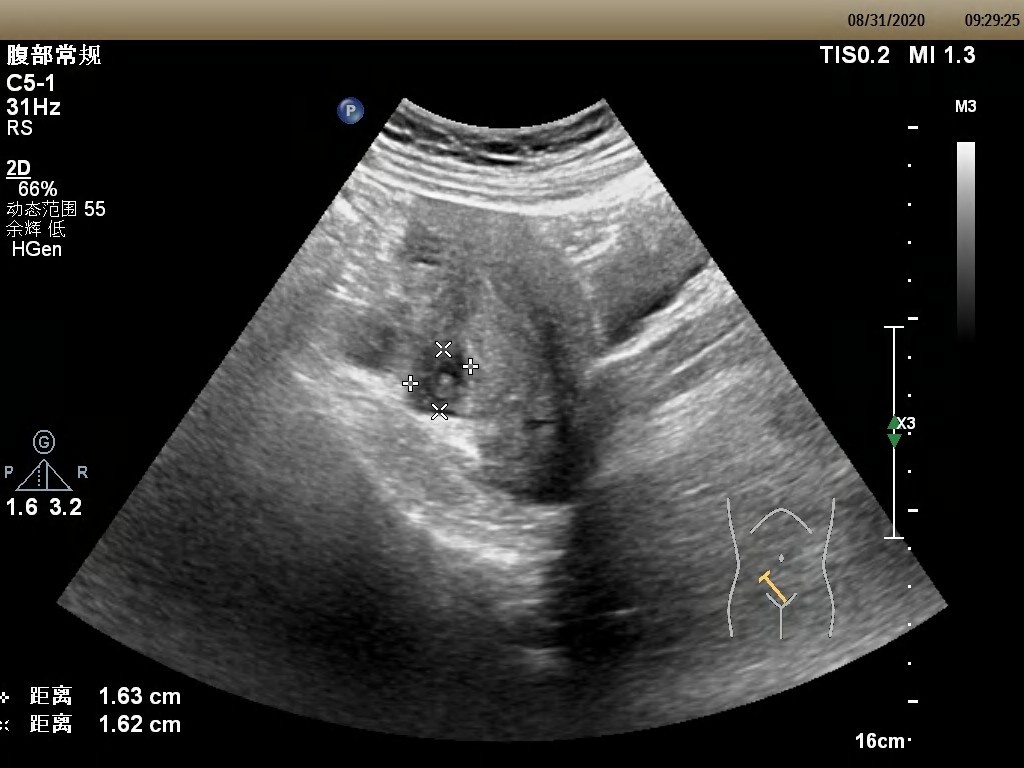肌瘤: (415, 345, 467, 410)
